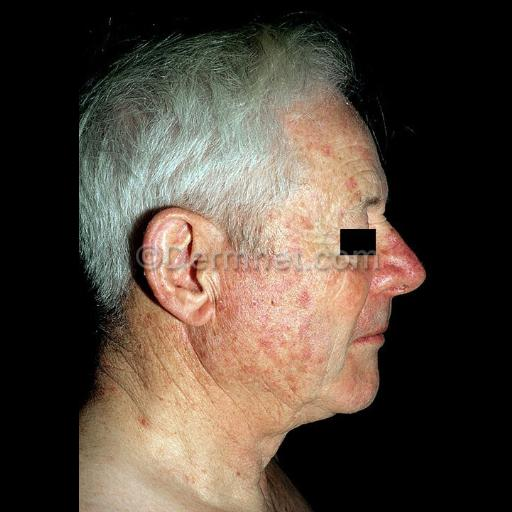Skin_Lesion: (256, 318, 302, 402), (383, 229, 423, 293), (298, 126, 336, 174), (218, 274, 244, 336), (256, 264, 286, 314), (344, 292, 376, 332), (130, 409, 166, 443), (286, 212, 318, 248), (96, 371, 128, 403), (193, 332, 221, 366), (297, 286, 311, 312), (346, 176, 356, 196)
